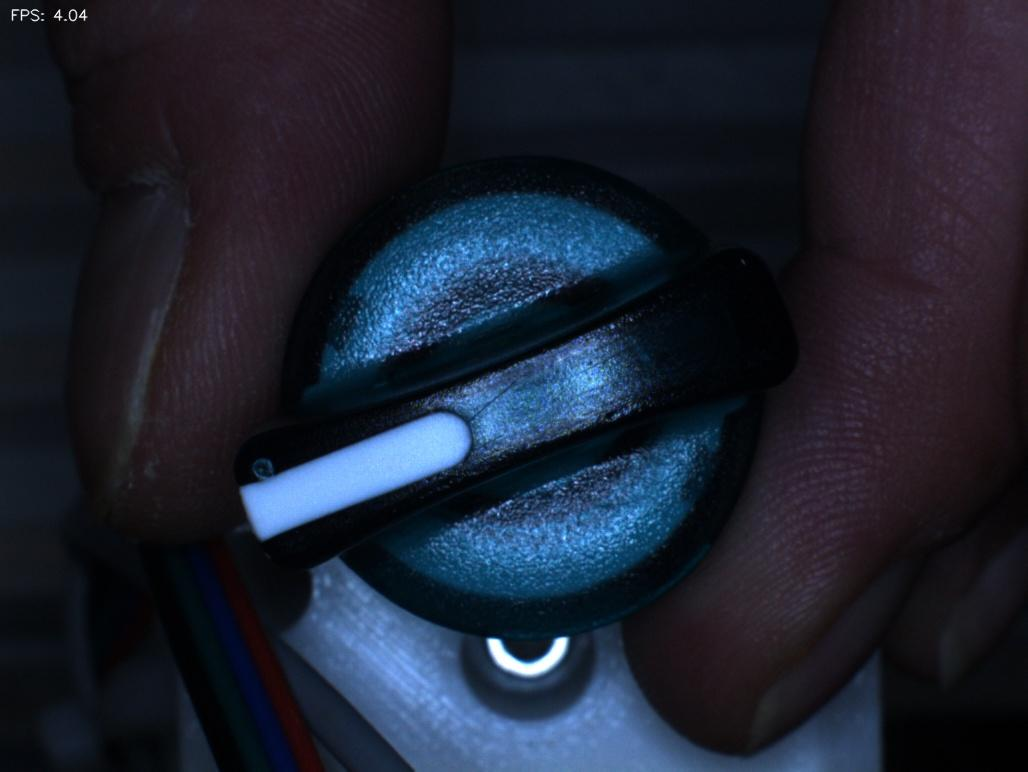Choc: (219, 425, 297, 497)
